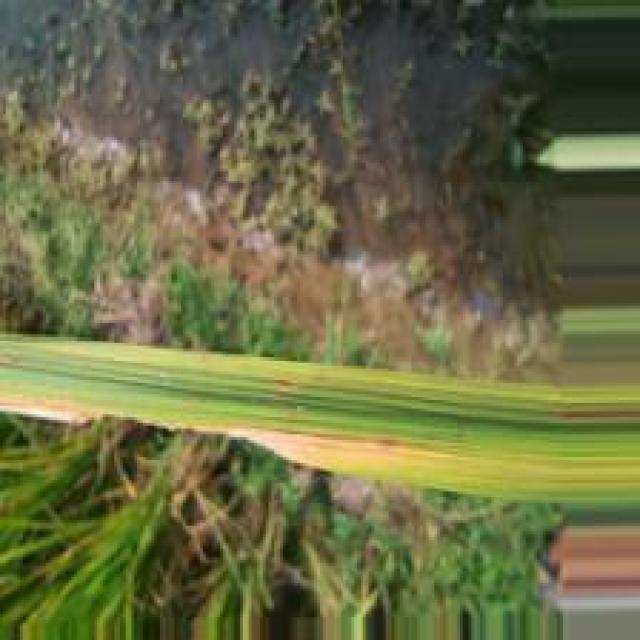Bacterial_Leaf_Blight: (237, 422, 402, 464), (2, 396, 103, 424)
